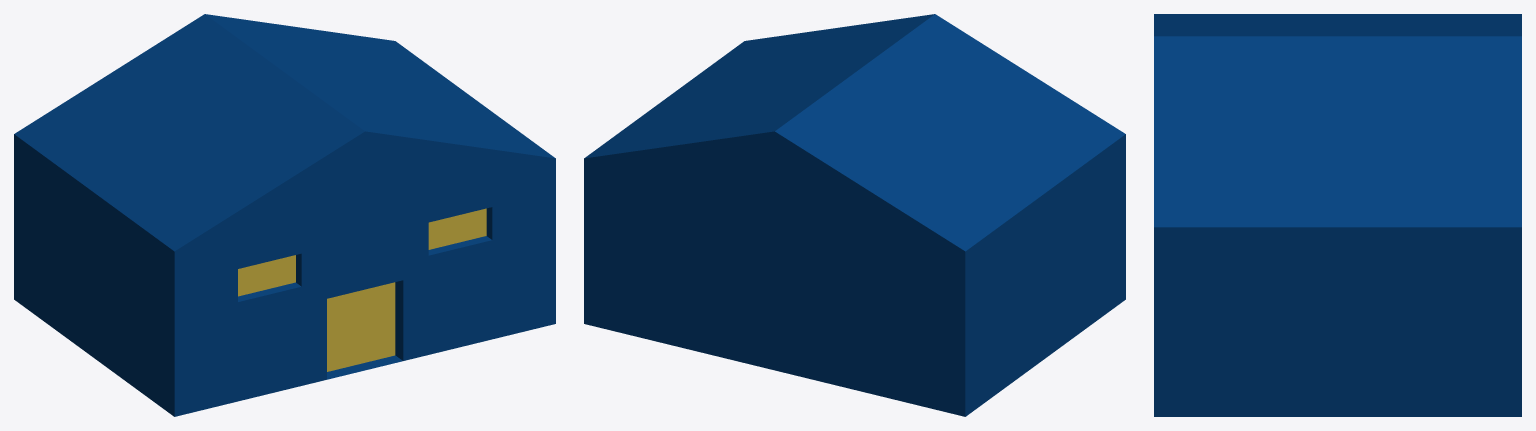
The model's file is lowessmall4.gltf.
3 views of the same model, side by side, from view 1: azimuth 30°, elevation 25°; view 2: azimuth 150°, elevation 25°; view 3: azimuth 270°, elevation 25° (orthographic). The views are drawn at different scales.
Parts seen in each view (by area): view 1: Cube; view 2: Cube; view 3: Cube.
Part boxes in pixels (<box>): Cube: <box>14,14,555,416</box>; Cube: <box>584,14,1125,416</box>; Cube: <box>1154,14,1521,416</box>.
Bounding box in the file's own units: 1.21 × 0.7268 × 0.884.
